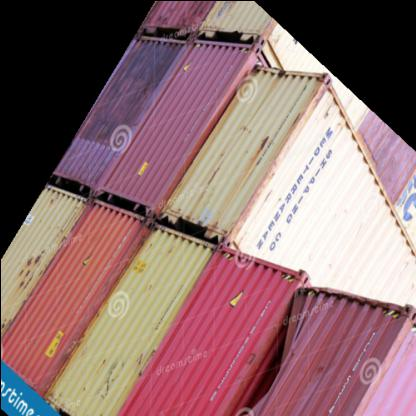Damage: (239, 317, 303, 399)
